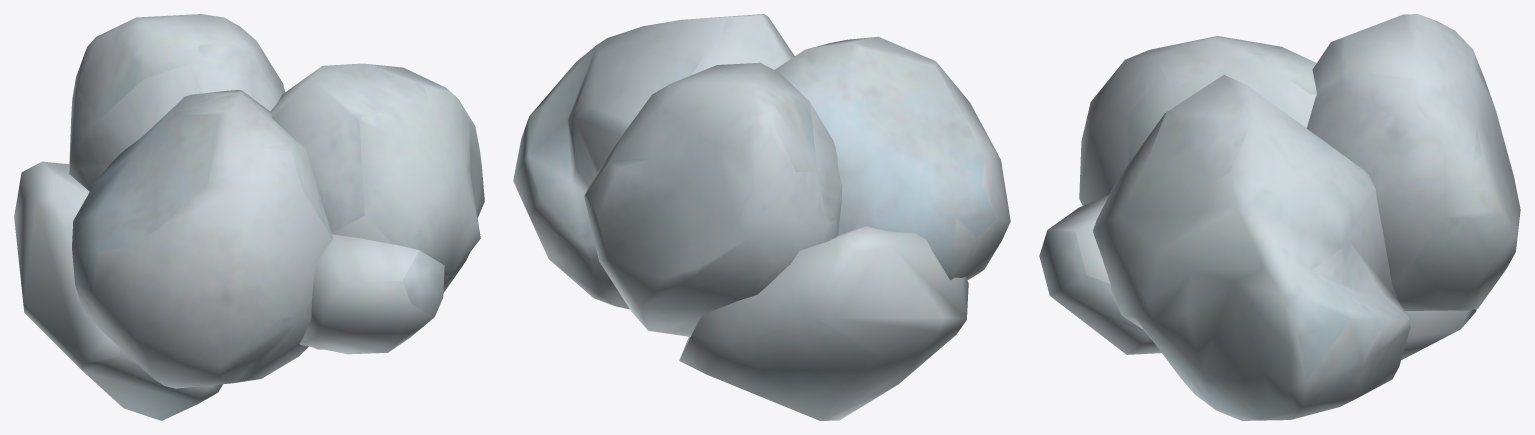
File: P_RockClumpClassic7.obj
The picture shows the model from 3 angles, left to right: view 1: azimuth 30°, elevation 25°; view 2: azimuth 150°, elevation 25°; view 3: azimuth 270°, elevation 25°; orthographic projection. The views are drawn at different scales.
Bounding box in the file's own units: 2.86 × 2.19 × 2.53.
